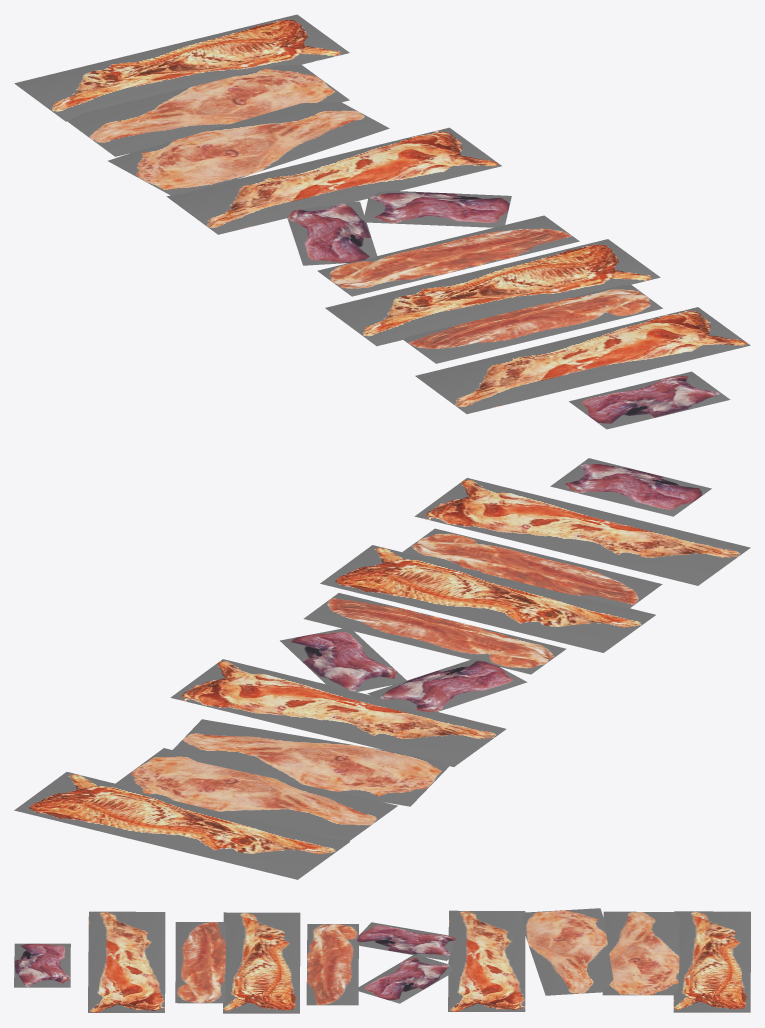
Rendered from meat_booth02_LOD03.fbx.
3 renders of one model, top to bottom at view 1: azimuth 30°, elevation 25°; view 2: azimuth 150°, elevation 25°; view 3: azimuth 270°, elevation 25°, orthographic. The views are drawn at different scales.
Parts seen in each view (by area): view 1: Mesh Object; view 2: Mesh Object; view 3: Mesh Object.
Boxes of the visible parts, bbox=[...] form: Mesh Object: bbox=[14, 14, 750, 429]; Mesh Object: bbox=[14, 458, 750, 879]; Mesh Object: bbox=[14, 908, 750, 1013].
Size of the model in its own units: 0.6391 by 0.0317 by 1.88.
